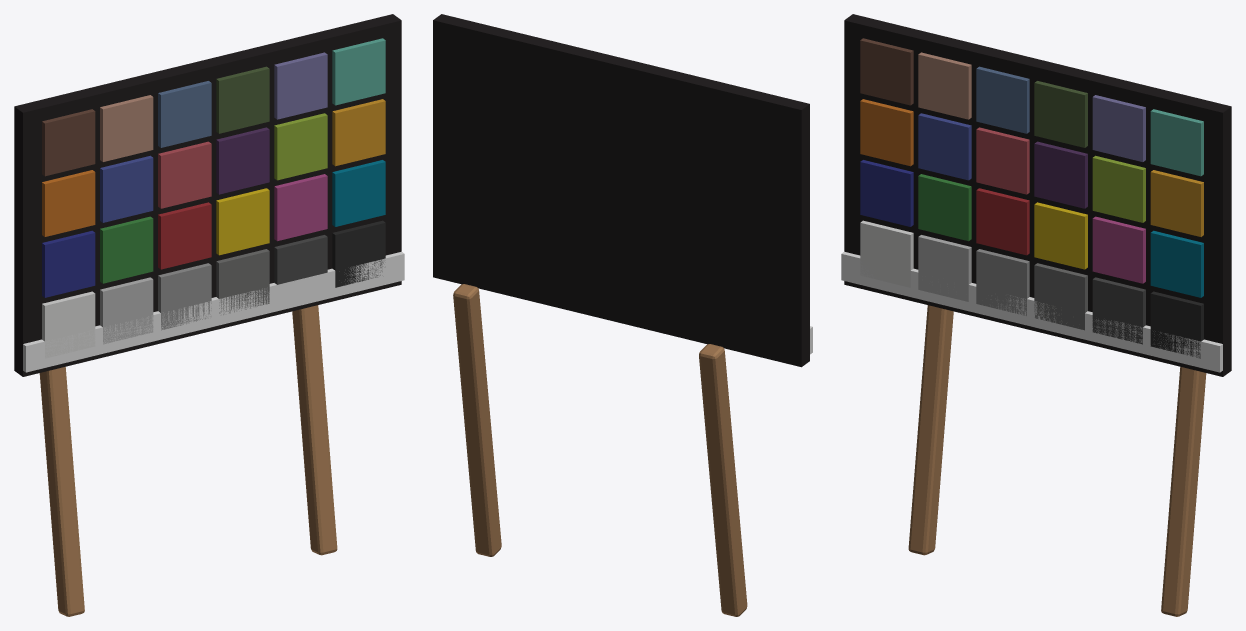
File: m_checker.glb
3 renders of one model, left to right at view 1: azimuth 30°, elevation 25°; view 2: azimuth 150°, elevation 25°; view 3: azimuth 330°, elevation 25°, orthographic. The views are drawn at different scales.
Visible parts, largest first — view 1: m_checker; view 2: m_checker; view 3: m_checker.
Boxes of the visible parts, x1=… form: m_checker: x1=14, y1=14, x2=404, y2=616; m_checker: x1=433, y1=14, x2=812, y2=616; m_checker: x1=841, y1=14, x2=1231, y2=616.
Bounding box in the file's own units: 0.3 × 0.3995 × 0.0635.
